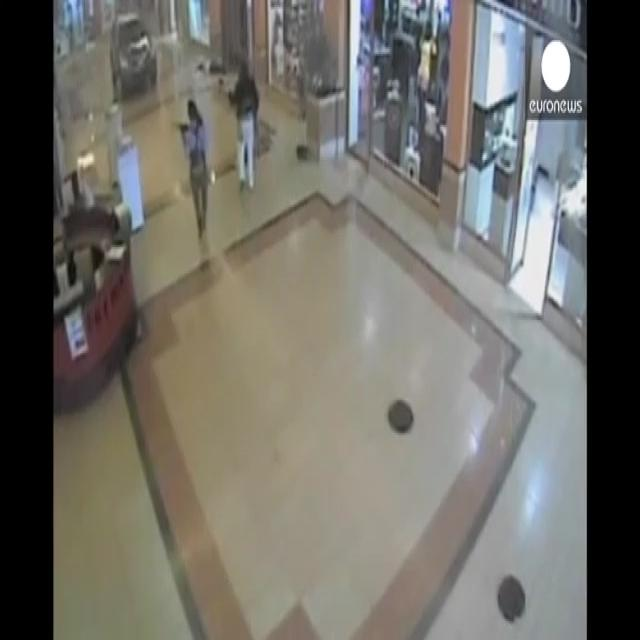Weapon: (222, 78, 242, 112), (168, 118, 196, 140)
